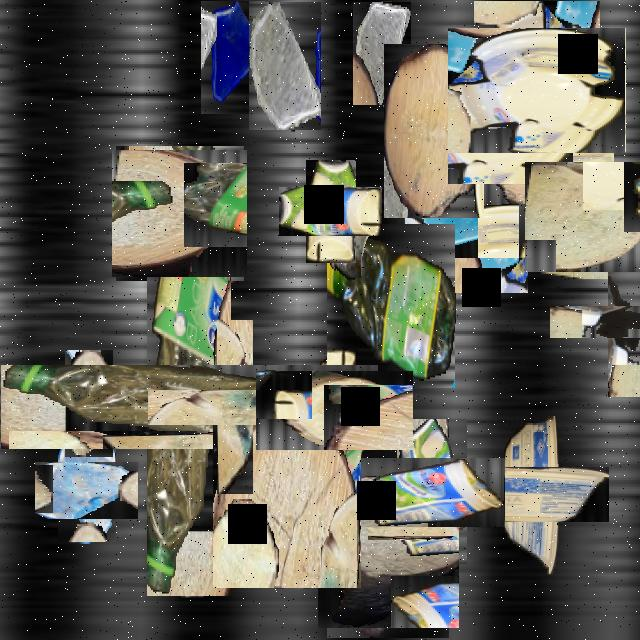glass: (466, 72, 596, 202), (420, 151, 546, 276), (249, 2, 321, 130), (201, 1, 265, 116), (47, 450, 127, 531), (353, 2, 411, 105)
plastic: (73, 292, 304, 522), (461, 15, 613, 166), (327, 224, 455, 388), (378, 438, 486, 546), (478, 441, 584, 547), (293, 173, 369, 250), (578, 276, 640, 367)
wood: (213, 400, 361, 588), (322, 501, 454, 633), (384, 45, 484, 218), (114, 148, 246, 279), (276, 351, 394, 470), (527, 159, 640, 274), (182, 354, 288, 460), (65, 350, 113, 457)
